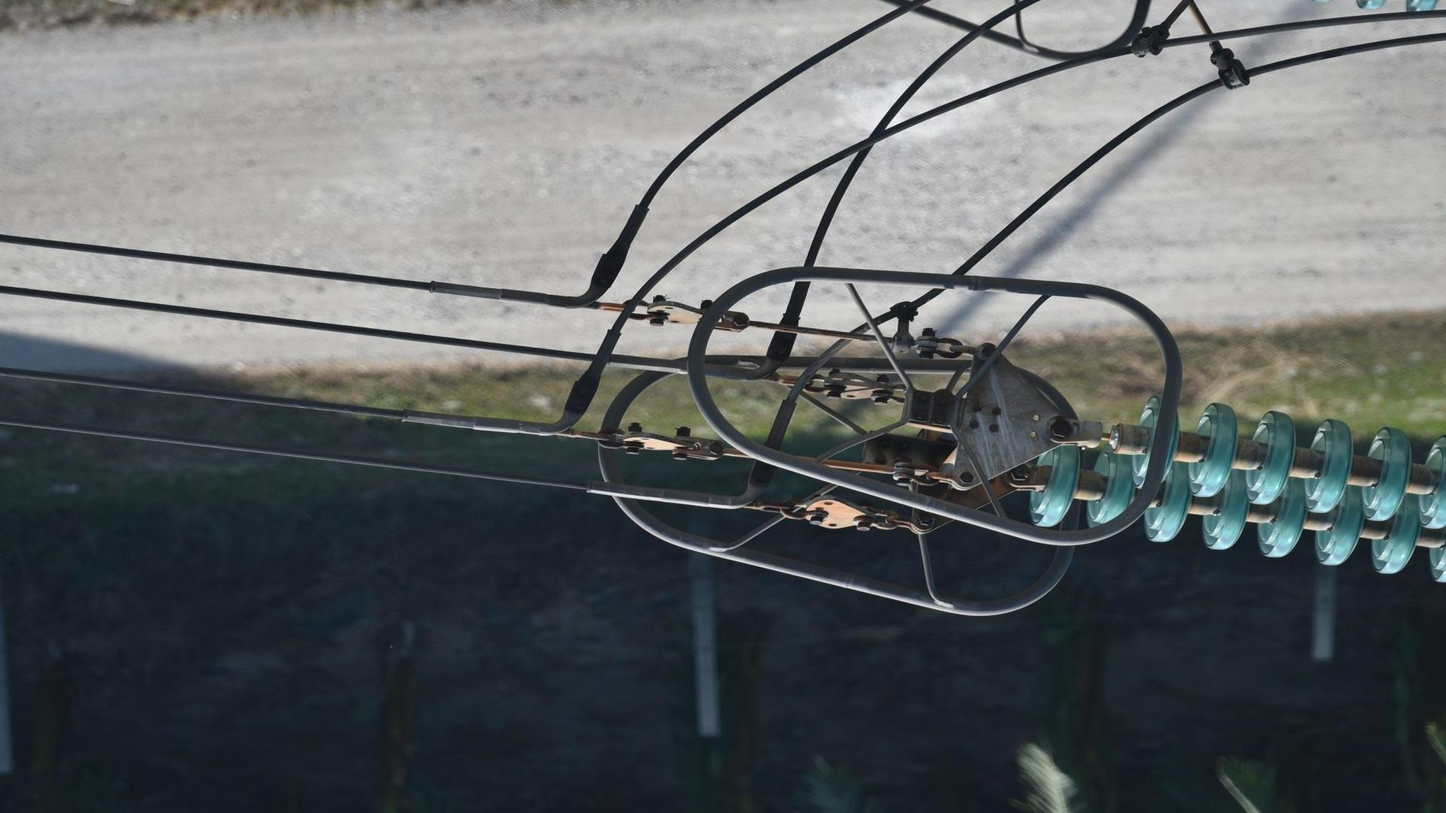insulator: (1024, 392, 1446, 593)
insulator_stringdrop: (1083, 388, 1188, 492)
